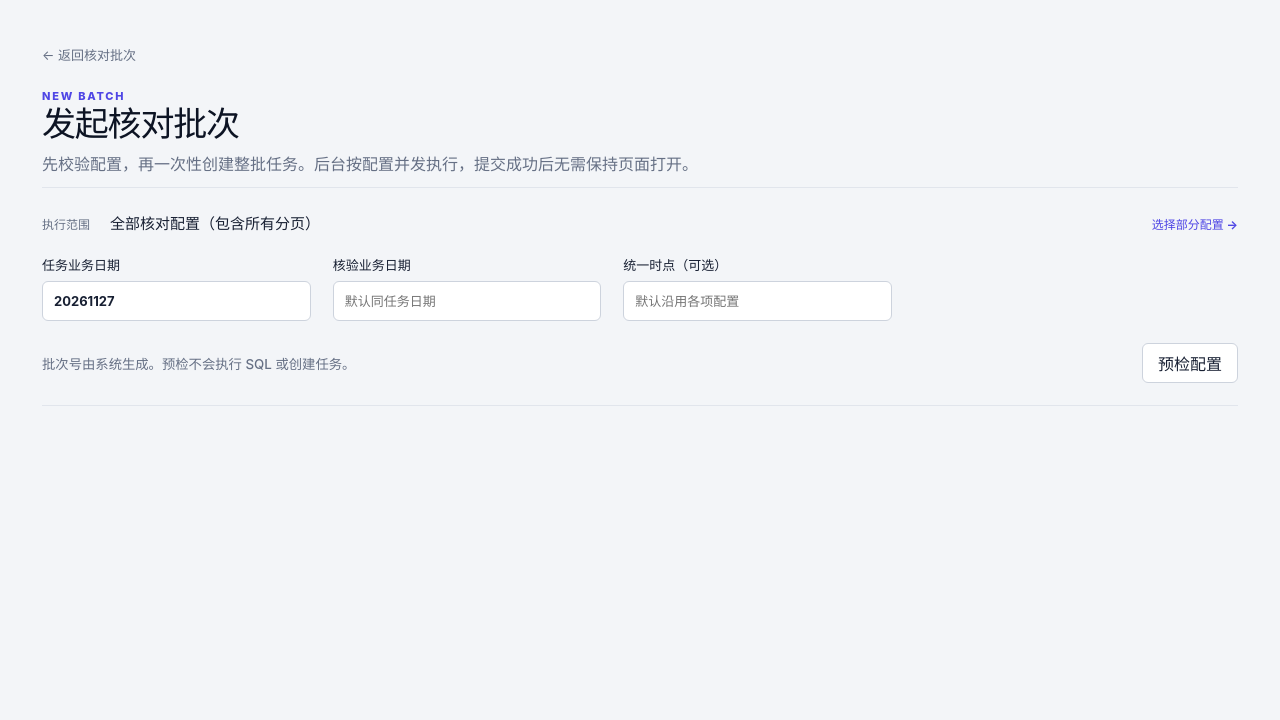
Test: blocks creation until the user explicitly excludes problem entries and previews again
The width and height of the screenshot is (1280, 720).
Click the button "预检配置": (1190, 363) [1142,343,1238,383]
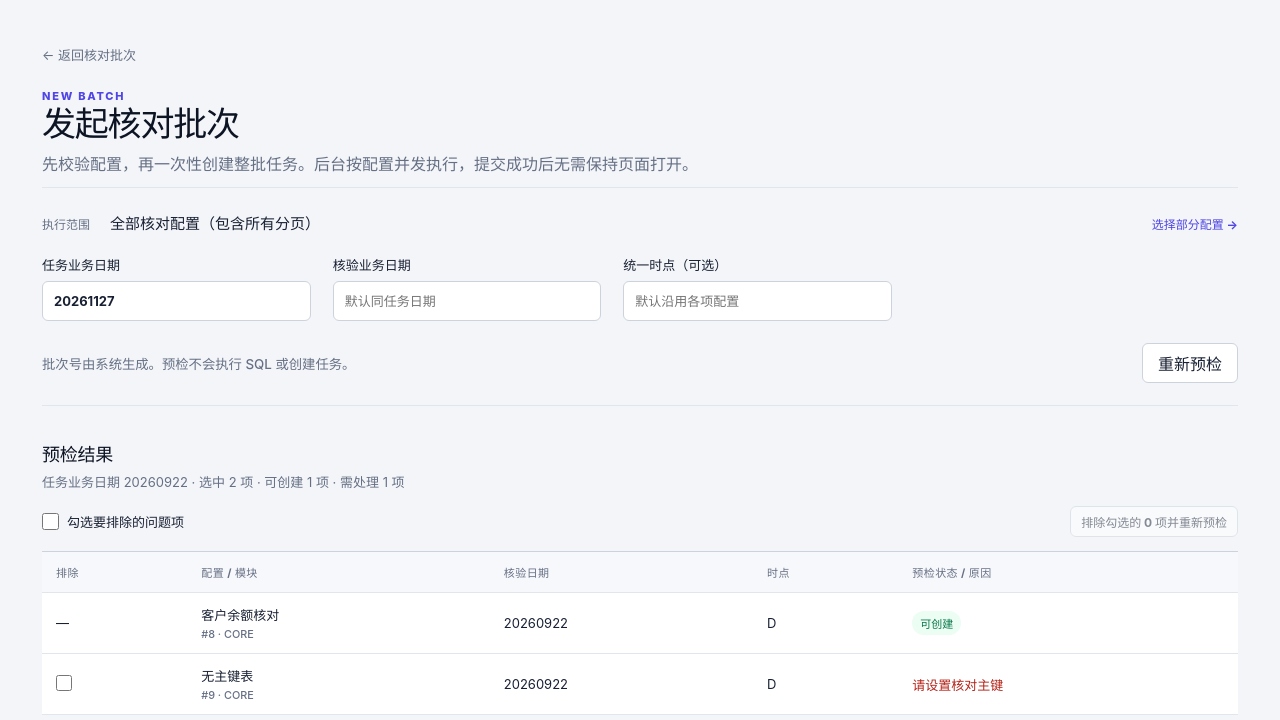
Expected: the text "请设置核对主键" is shown, [912,677,1003,693]
Click the checkbox named "排除 无主键表": (64, 683) [56,675,72,691]
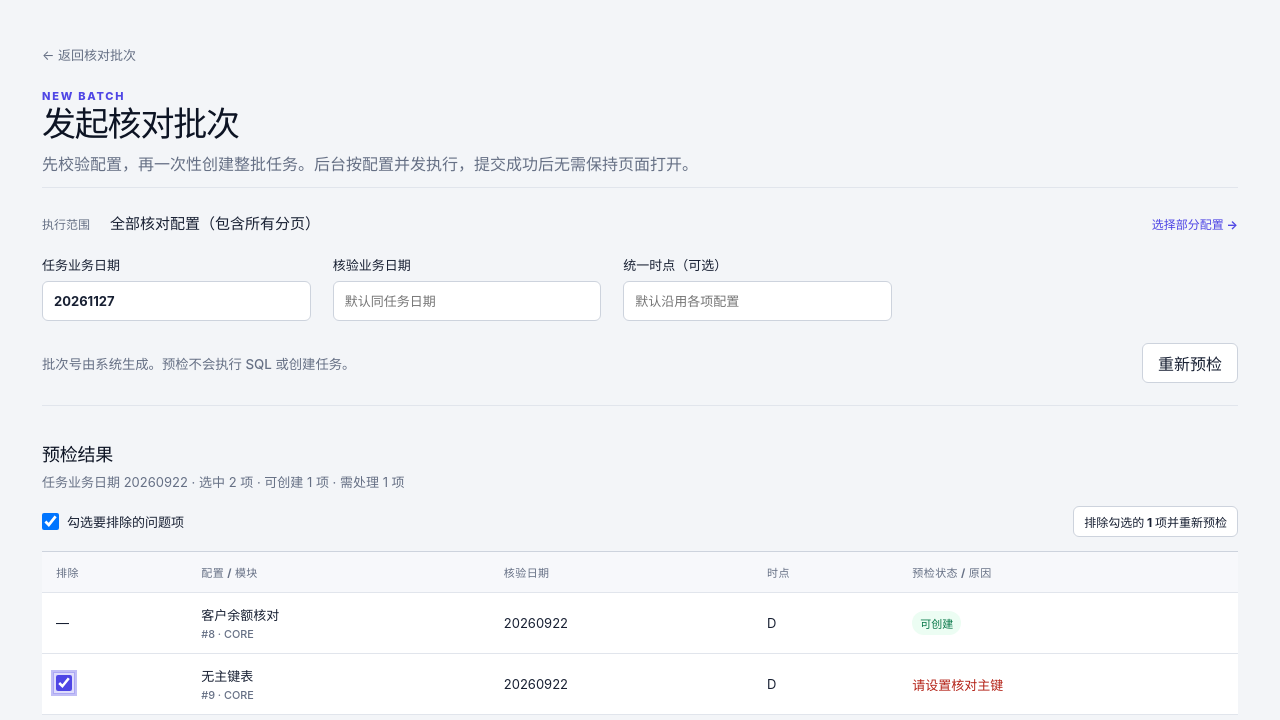
Click the button "排除勾选的 1 项并重新预检": (1156, 522) [1073,506,1238,537]
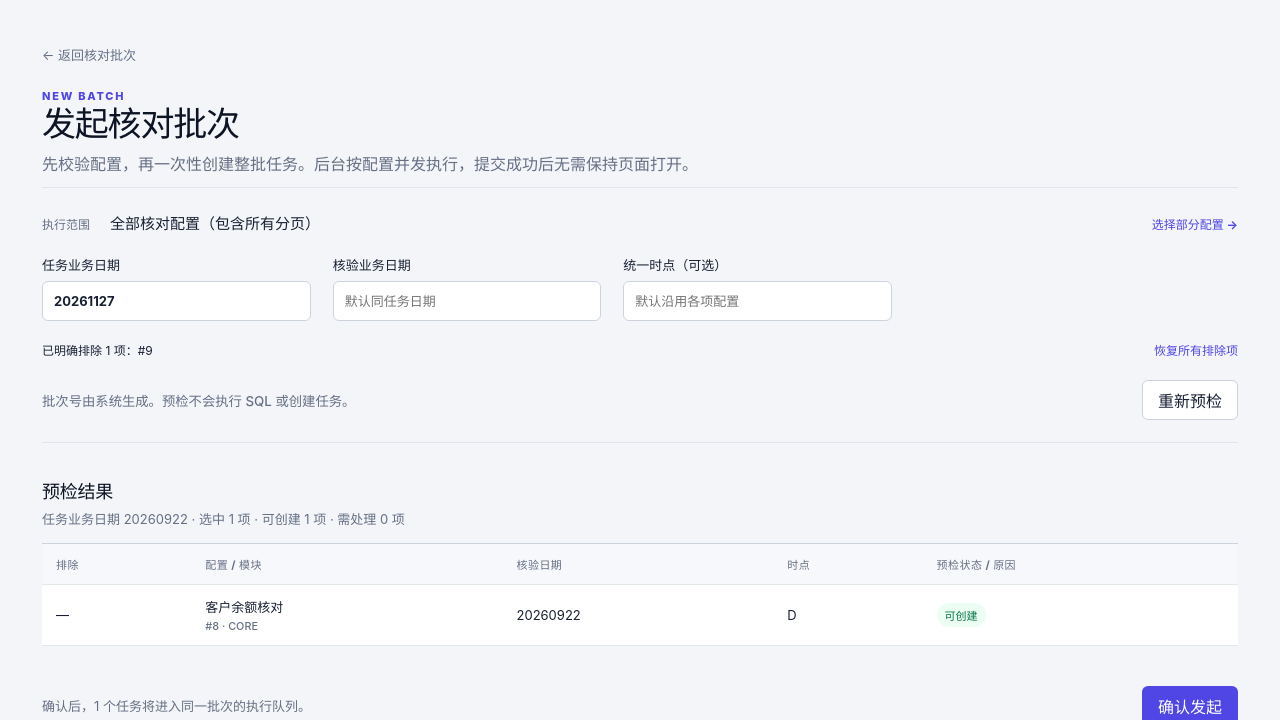
Expected: the text "已明确排除 1 项：#9" is shown, [42,343,153,358]
